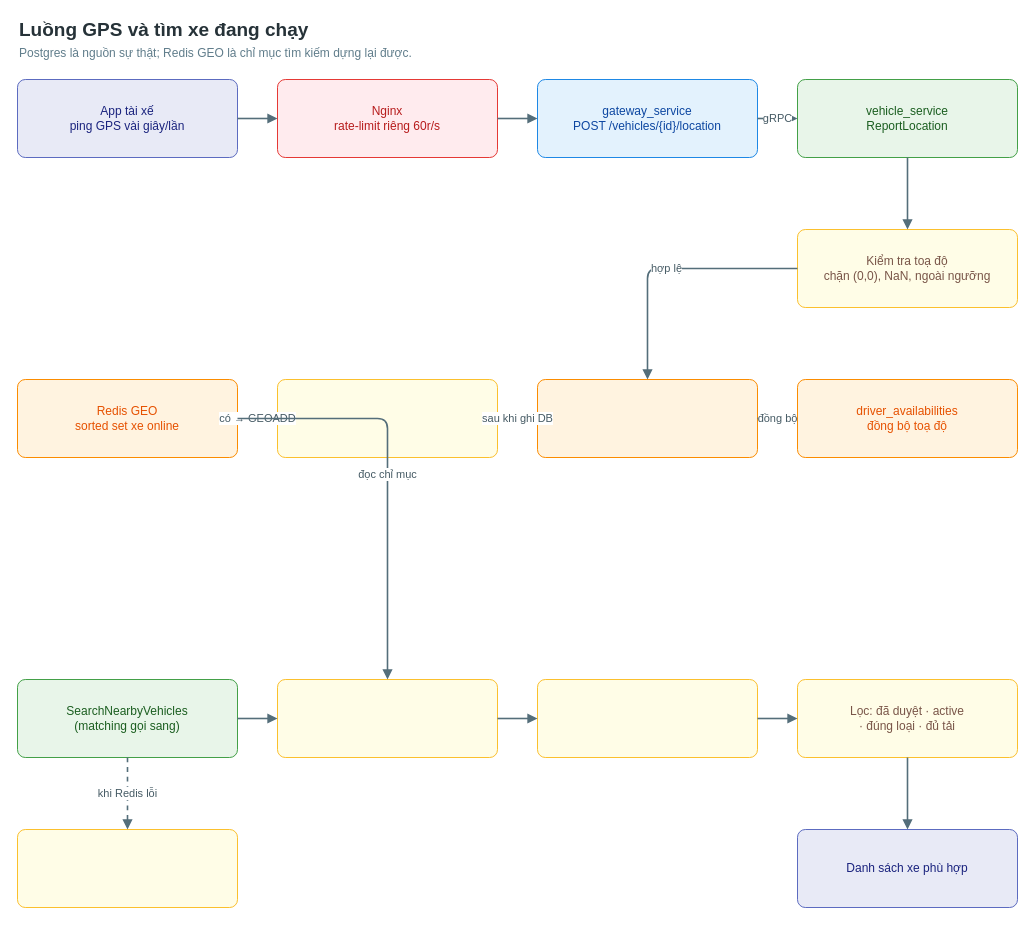
This 1035x925 diagram has some shape labels left out. The centre of each missing label's shape, as x and y in pixels:
"2 truy vấn gộp tránh N+1" goes at pixel 647 718.
"GEOSEARCH bán kính, gần → xa" goes at pixel 387 718.
"Redis chết → quét zone_id + haversine" goes at pixel 127 868.
"Tài xế đang bật nhận đơn?" goes at pixel 387 418.
"vehicle_locations ghi đè 1 dòng / xe" goes at pixel 647 418.
